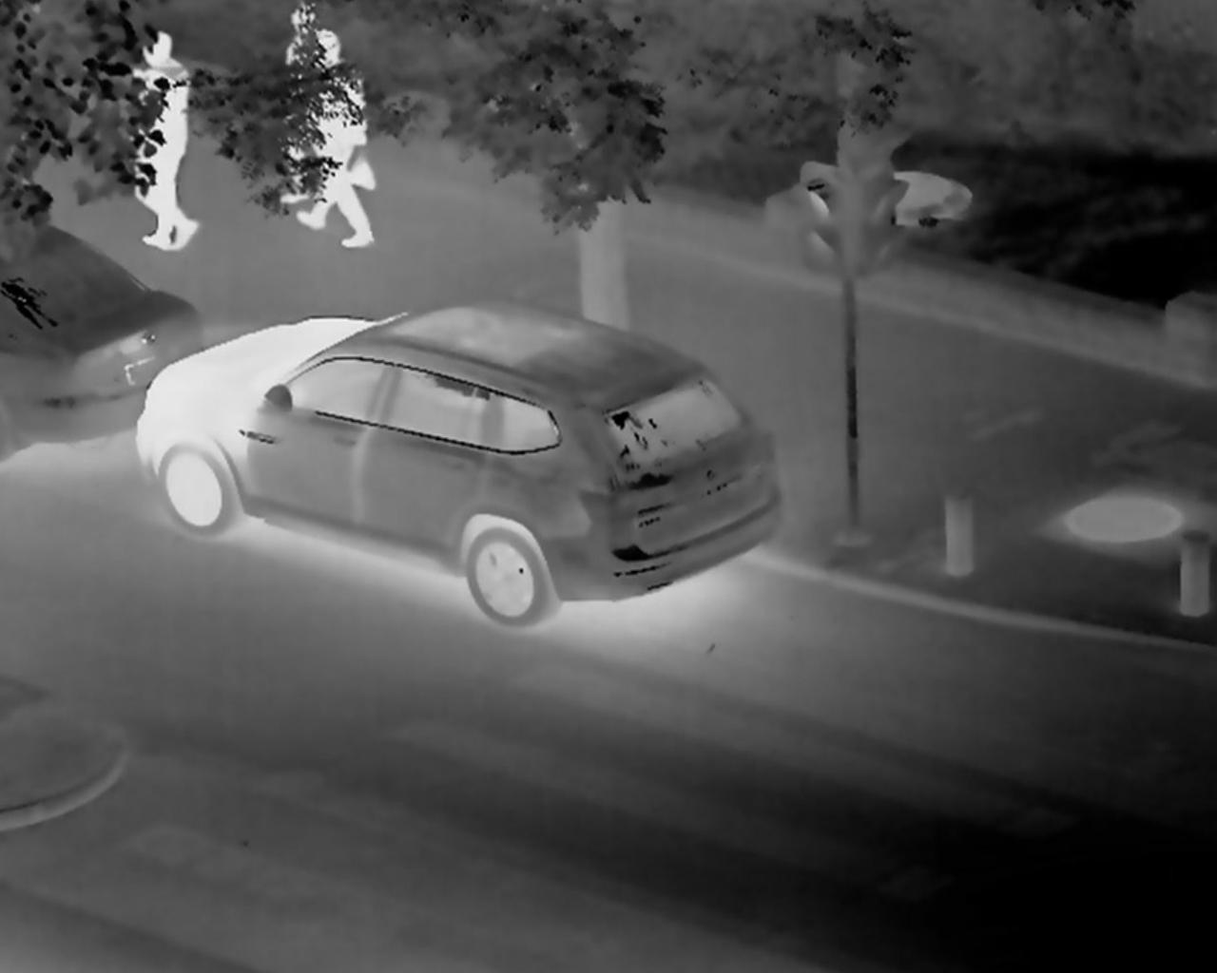person: (134, 26, 210, 256), (301, 71, 384, 261), (289, 5, 347, 62)
